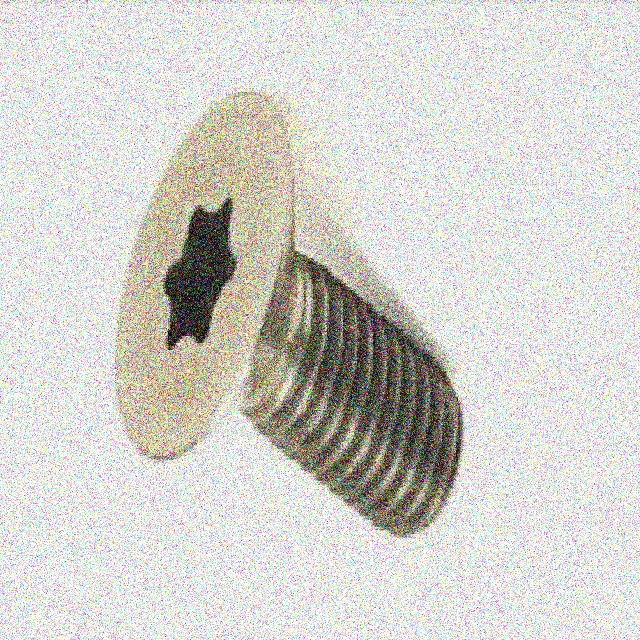torx: (113, 90, 294, 465)
